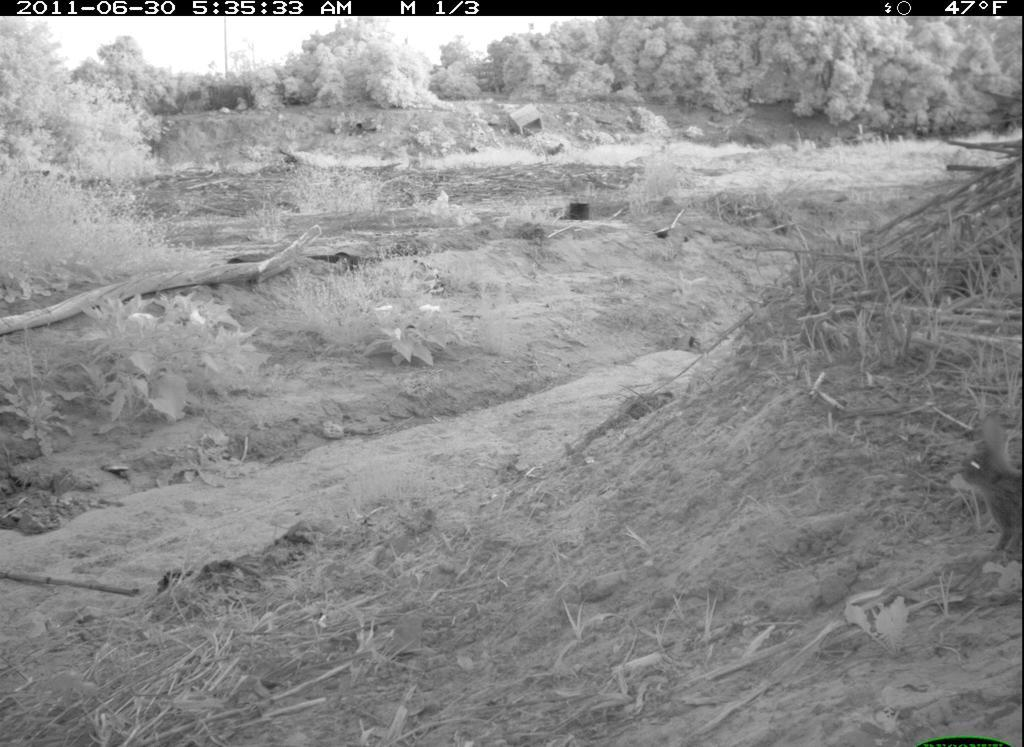rabbit: (949, 393, 1023, 577)
